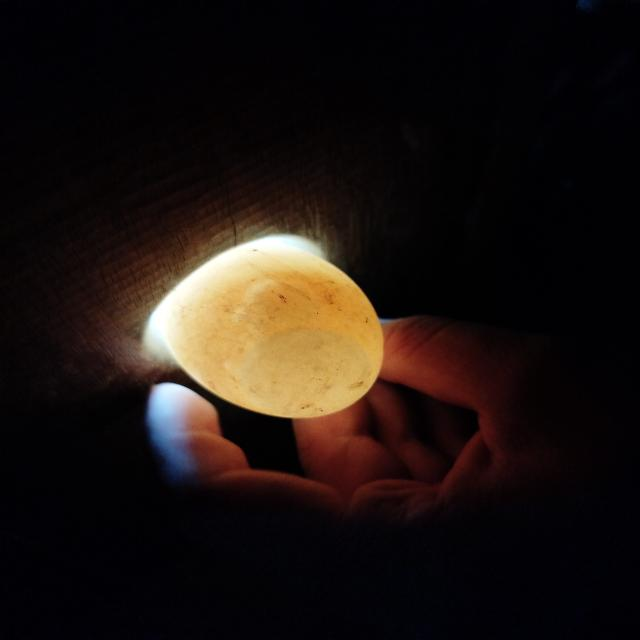Camara de Ar: (248, 330, 367, 404)
